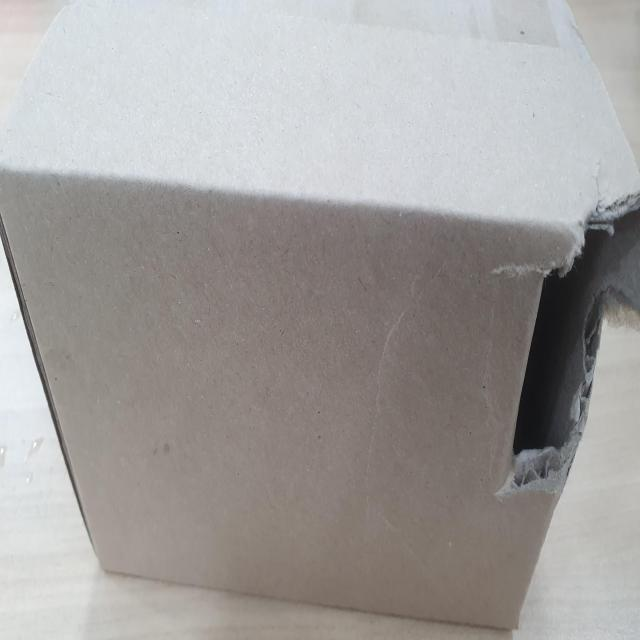damaged: (510, 186, 640, 479)
